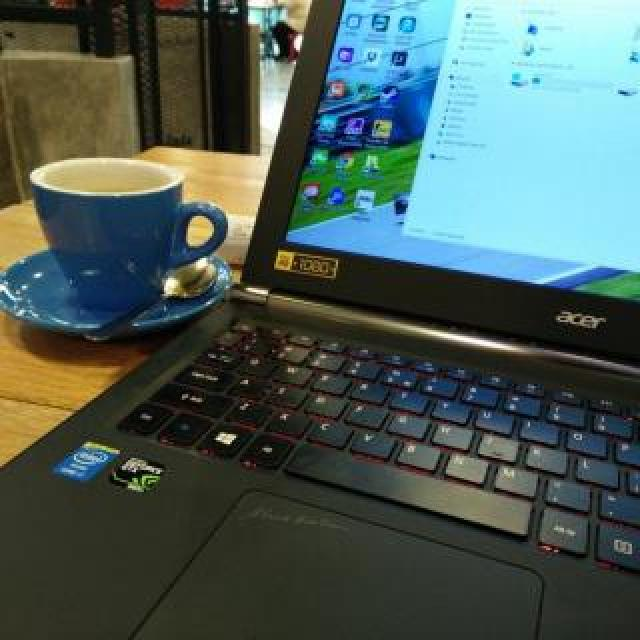laptop_computer: (186, 0, 640, 640)
